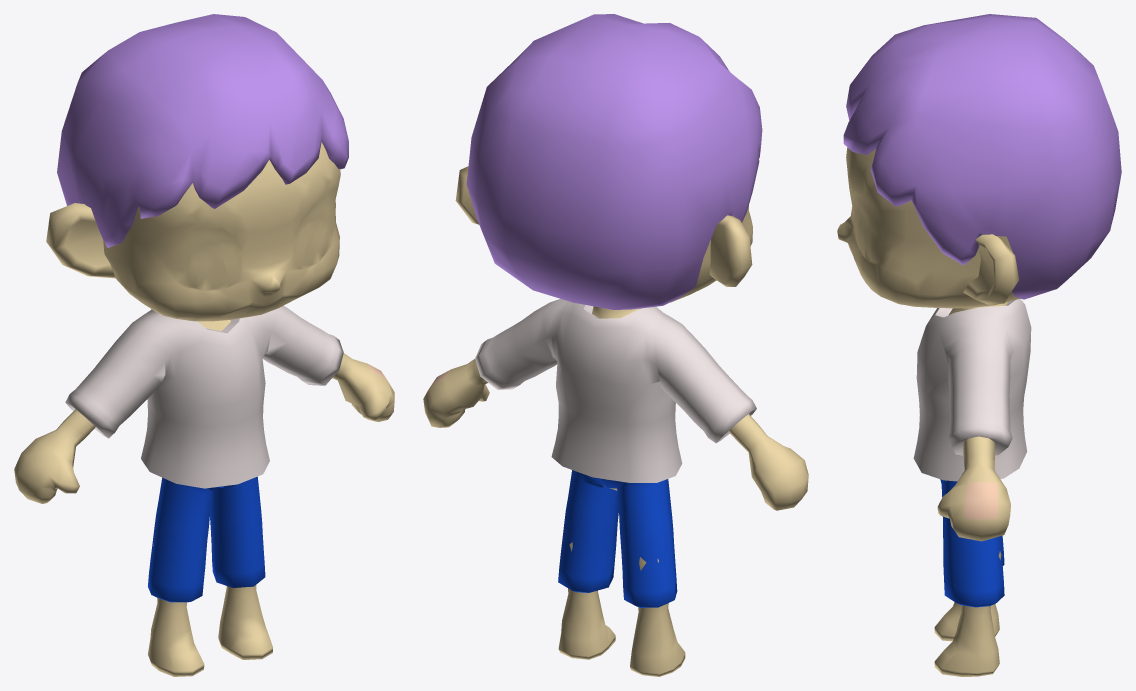
File: silm default.fbx
3 views of the same model, side by side, from view 1: azimuth 30°, elevation 25°; view 2: azimuth 150°, elevation 25°; view 3: azimuth 270°, elevation 25° (orthographic).
Visible parts, largest first — view 1: Body_4; view 2: Body_4; view 3: Body_4.
Part boxes in pixels (<box>): Body_4: <box>14,14,394,676</box>; Body_4: <box>423,14,808,676</box>; Body_4: <box>837,14,1121,676</box>.
Bounding box in the file's own units: 107 × 169 × 70.54.
